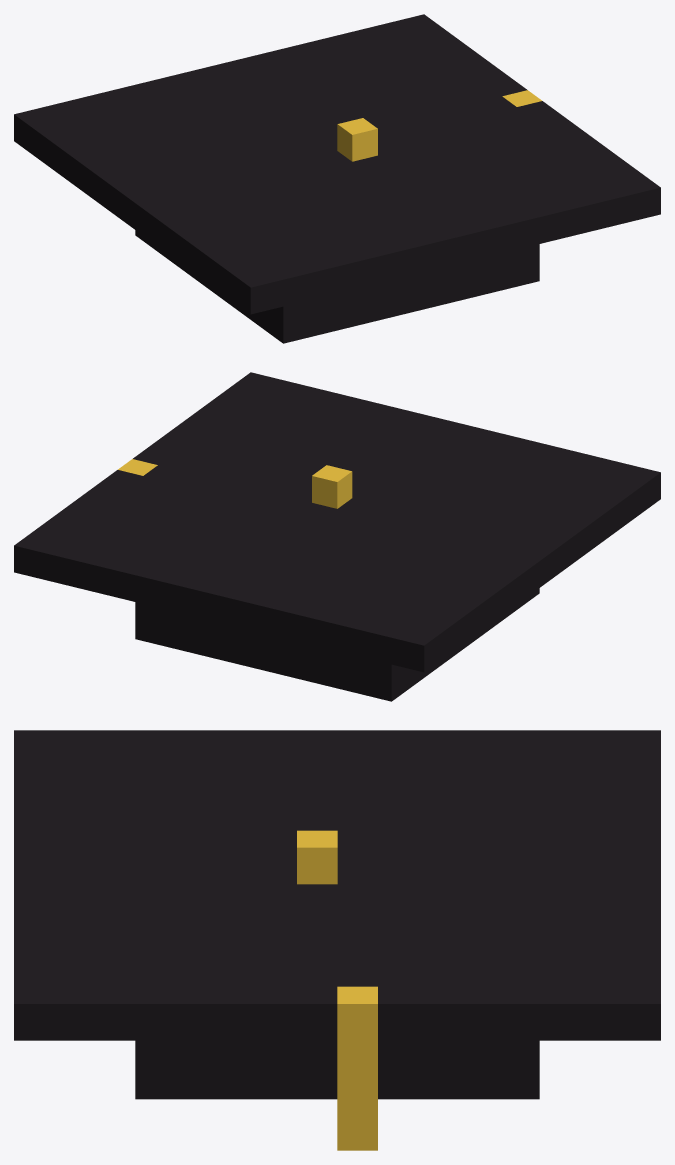
Rendered from grad_cap.glb.
3 views of the same model, one above another, from view 1: azimuth 30°, elevation 25°; view 2: azimuth 150°, elevation 25°; view 3: azimuth 270°, elevation 25° (orthographic). The views are drawn at different scales.
Visible parts, largest first — view 1: grad_cap; view 2: grad_cap; view 3: grad_cap.
Boxes of the visible parts, x1,y1,x2,y2 form: grad_cap: [14, 14, 660, 343]; grad_cap: [14, 372, 660, 701]; grad_cap: [14, 730, 660, 1150].
Size of the model in its own units: 0.8 by 0.25 by 0.8.
1 material, 1 textured.
